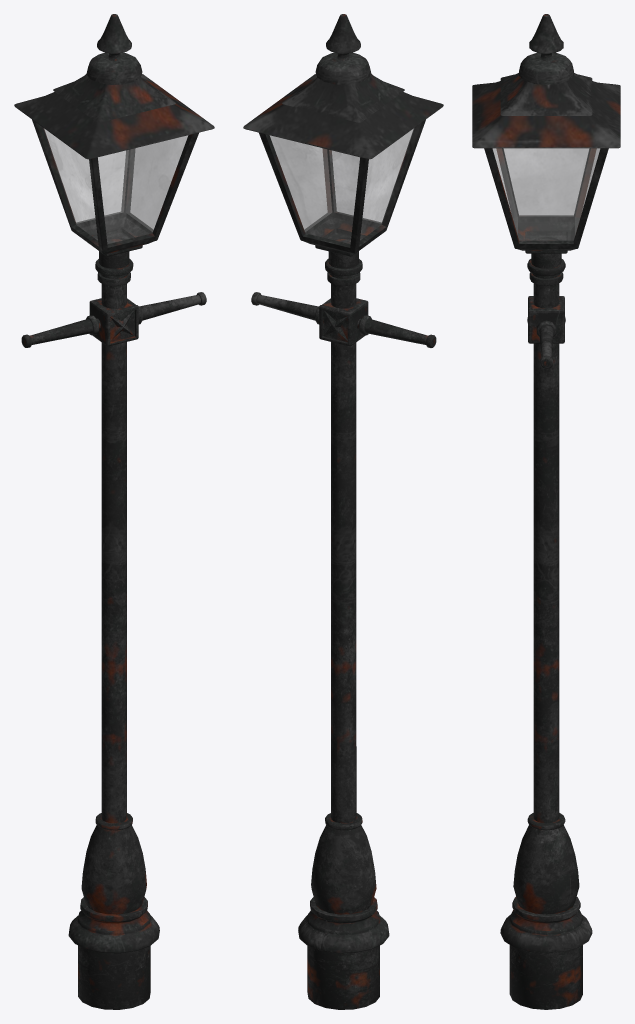
File: street_lamp_post.glb
3 renders of one model, left to right at view 1: azimuth 30°, elevation 25°; view 2: azimuth 150°, elevation 25°; view 3: azimuth 270°, elevation 25°, orthographic.
Visible parts, largest first — view 1: g; view 2: g; view 3: g.
Boxes of the visible parts, left/top/right/bottom form: g: left=14, top=14, right=214, bottom=1009; g: left=243, top=14, right=443, bottom=1009; g: left=472, top=14, right=620, bottom=1009.
Bounding box in the file's own units: 0.3838 × 2 × 0.2748.
Materials: 1 (1 with a texture image).
